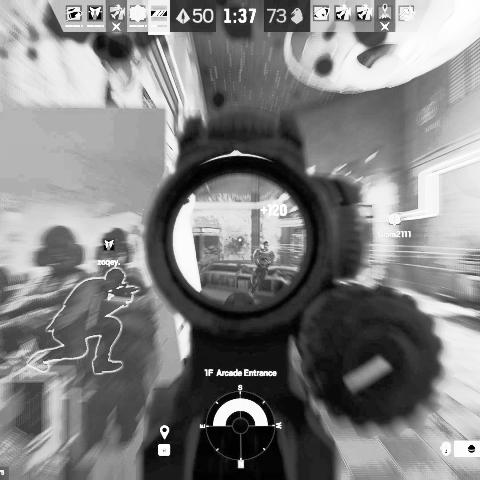Character: (248, 239, 276, 298)
Friend_label: (377, 212, 412, 238), (97, 238, 121, 266)
Head: (263, 240, 269, 250)
